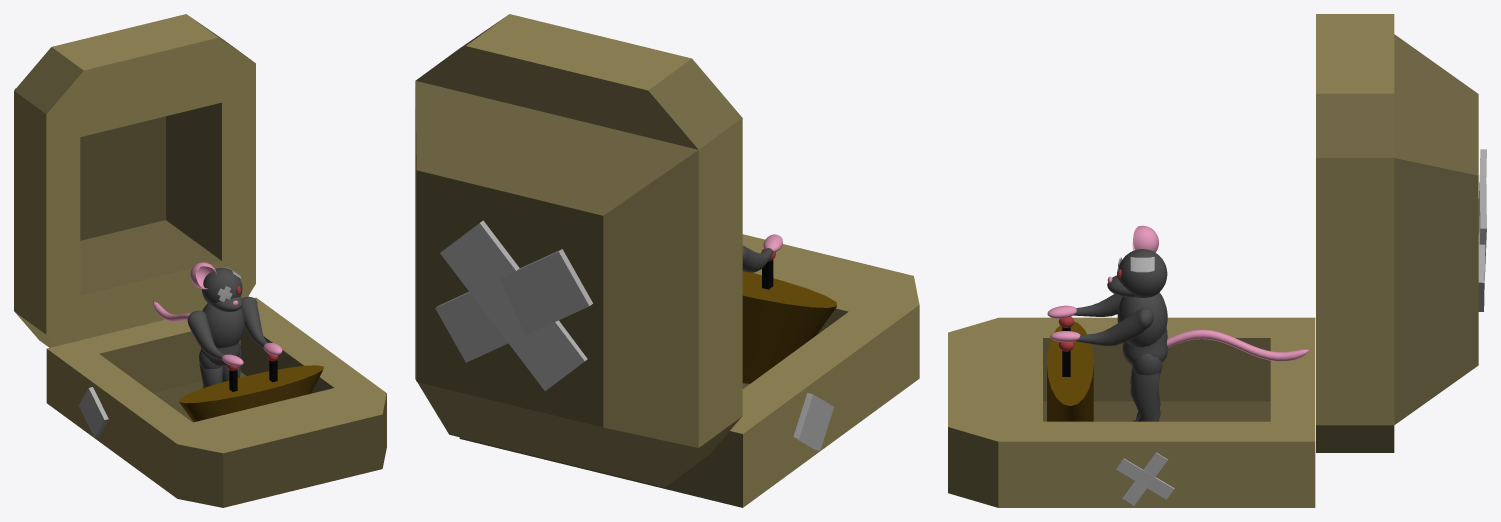
The model's file is Rat_Enemy1.fbx.
3 views of the same model, side by side, from view 1: azimuth 30°, elevation 25°; view 2: azimuth 150°, elevation 25°; view 3: azimuth 270°, elevation 25° (orthographic). The views are drawn at different scales.
Parts seen in each view (by area): view 1: pasted__Carton2, pasted__Rat6, pasted__ControlBox1, Bandage4; view 2: pasted__Carton2, Bandage5, pasted__ControlBox1, Bandage4, pasted__Rat6; view 3: pasted__Carton2, pasted__Rat6, pasted__ControlBox1, Bandage3, Bandage5.
Boxes of the visible parts, x1,y1,x2,y2 form: pasted__Carton2: (14, 14, 386, 507); pasted__Rat6: (152, 262, 282, 388); pasted__ControlBox1: (179, 353, 323, 421); Bandage4: (78, 387, 108, 437); pasted__Carton2: (415, 14, 919, 507); Bandage5: (435, 220, 592, 391); pasted__ControlBox1: (742, 249, 836, 383); Bandage4: (793, 393, 833, 450); pasted__Rat6: (742, 234, 782, 272); pasted__Carton2: (948, 14, 1478, 507); pasted__Rat6: (1047, 225, 1310, 421); pasted__ControlBox1: (1047, 316, 1093, 421); Bandage3: (1115, 452, 1174, 505); Bandage5: (1478, 149, 1486, 311).
Size of the model in its own units: 12.09 by 17.25 by 21.49.
